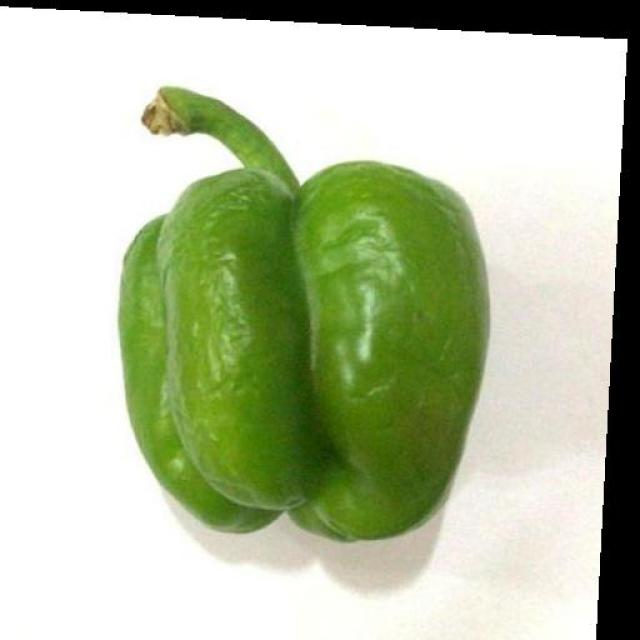Fresh_Capsicum: (90, 88, 509, 558)
